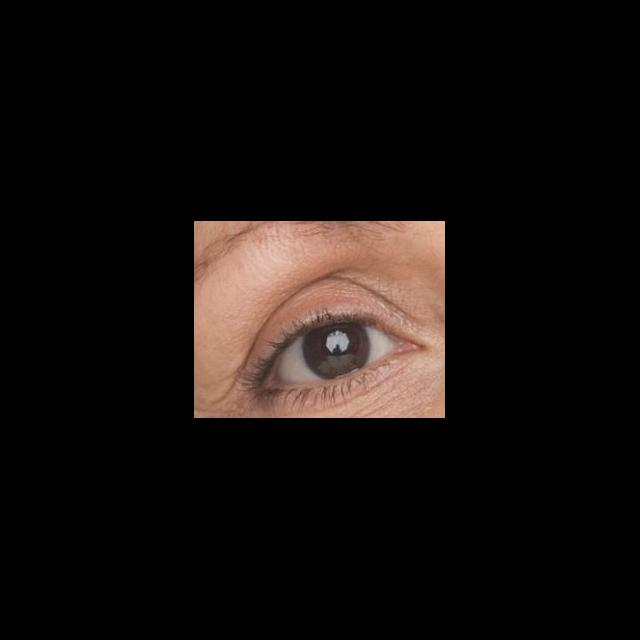eye: (273, 323, 391, 383)
iris: (303, 324, 371, 380)
